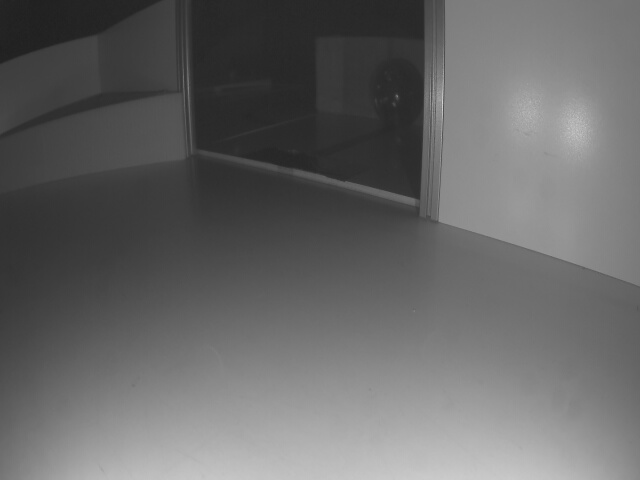Point: (3, 95, 182, 194)
